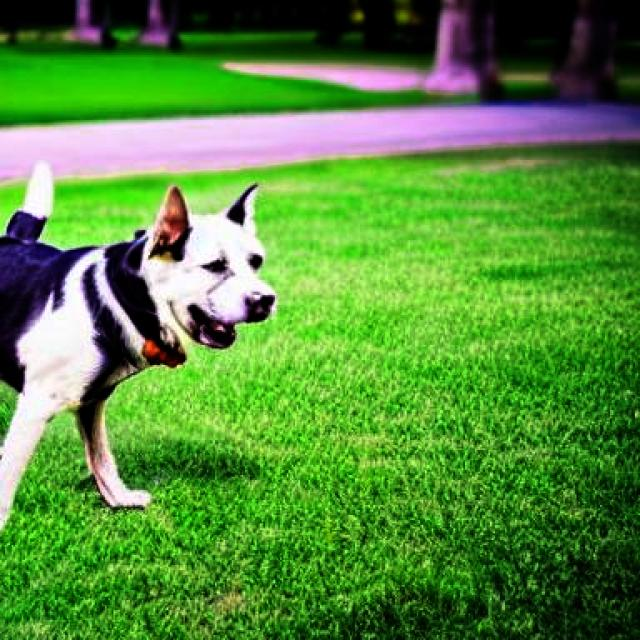Dog: (0, 159, 276, 535)
